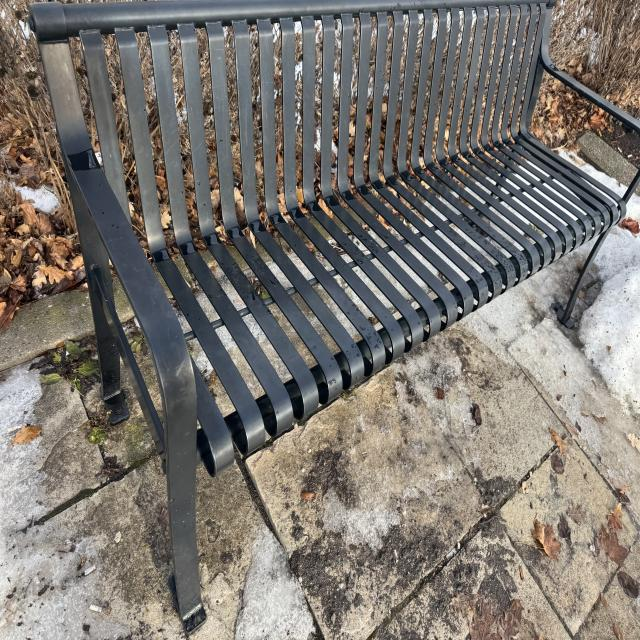Bench: (26, 11, 639, 320), (78, 5, 382, 585)
